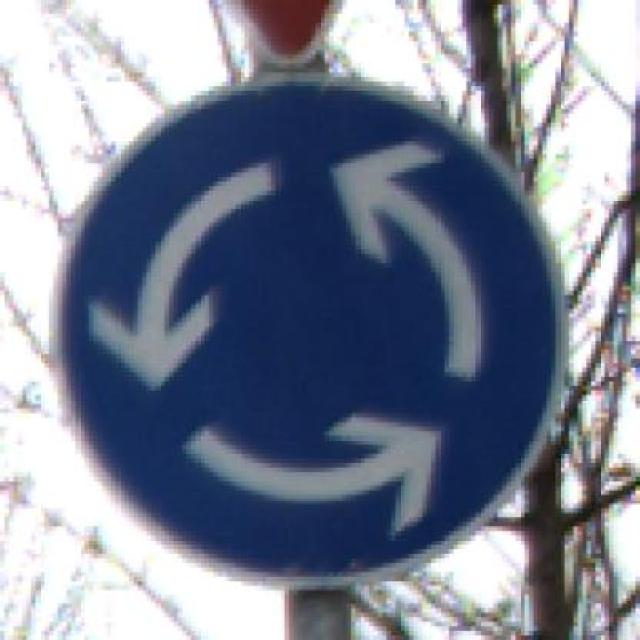Round-About: (31, 78, 591, 604)
